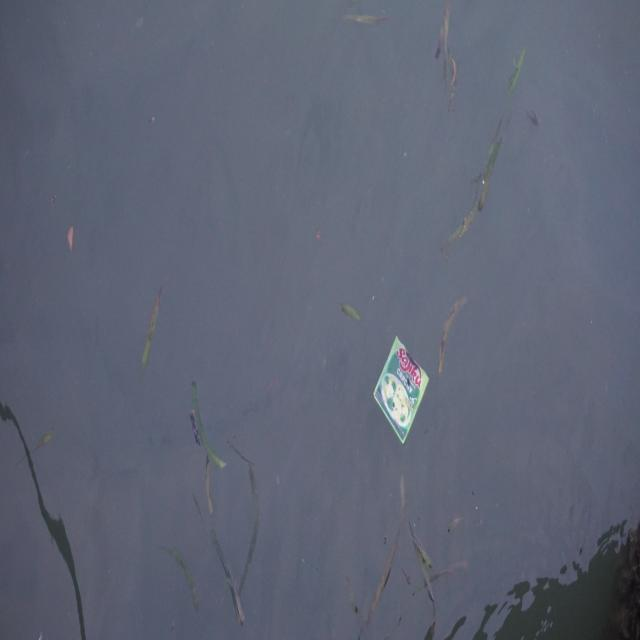Bungkus Makanan: (373, 333, 430, 447)
